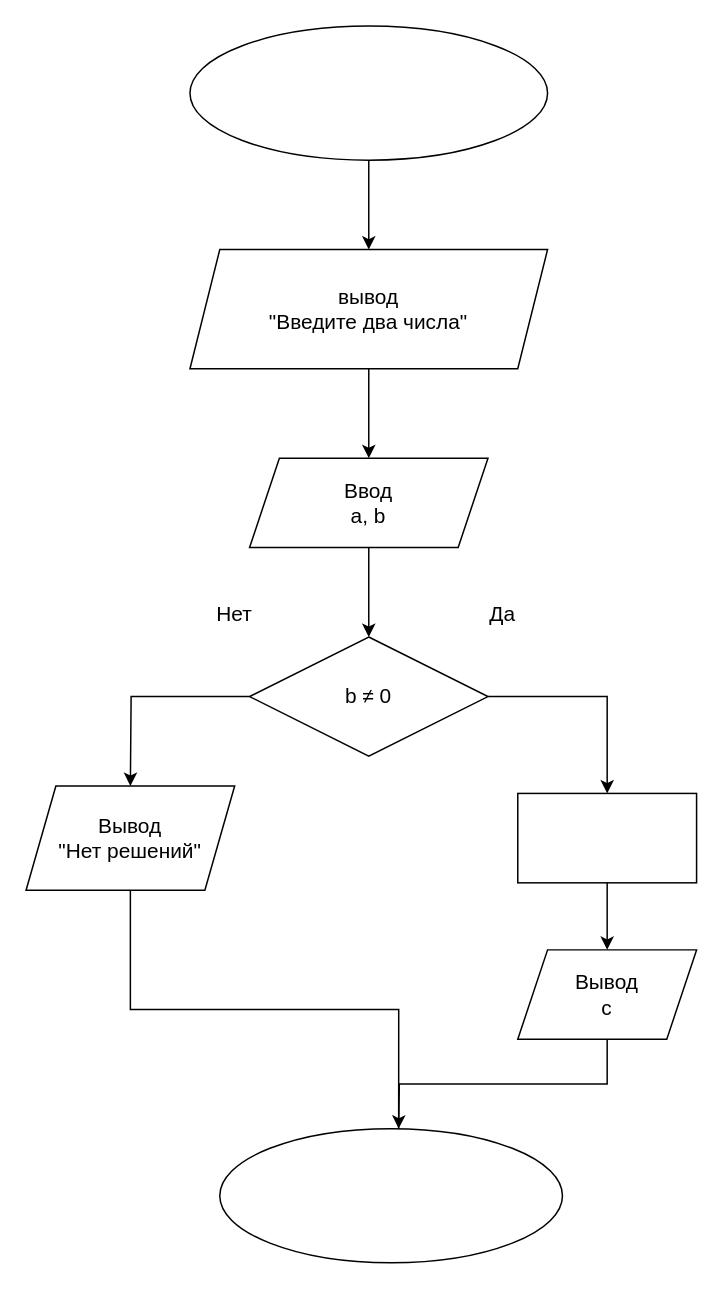
Image size: 723x1289. Some labels were removed from this diagram. The shapes that lost their labels are listed below. From the top down, each one's centre as x and y in pixels, then its label:
At [368,92]: "Начало".
At [606,837]: "c = a / b".
At [390,1195]: "Конец".
